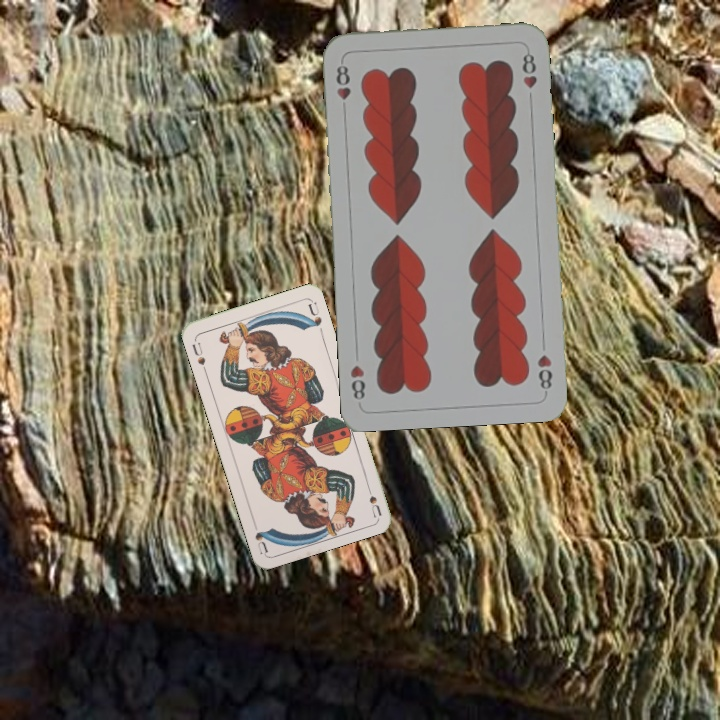H8: (533, 350, 555, 395), (332, 57, 353, 103)
SU: (362, 478, 384, 519), (188, 338, 209, 375)
